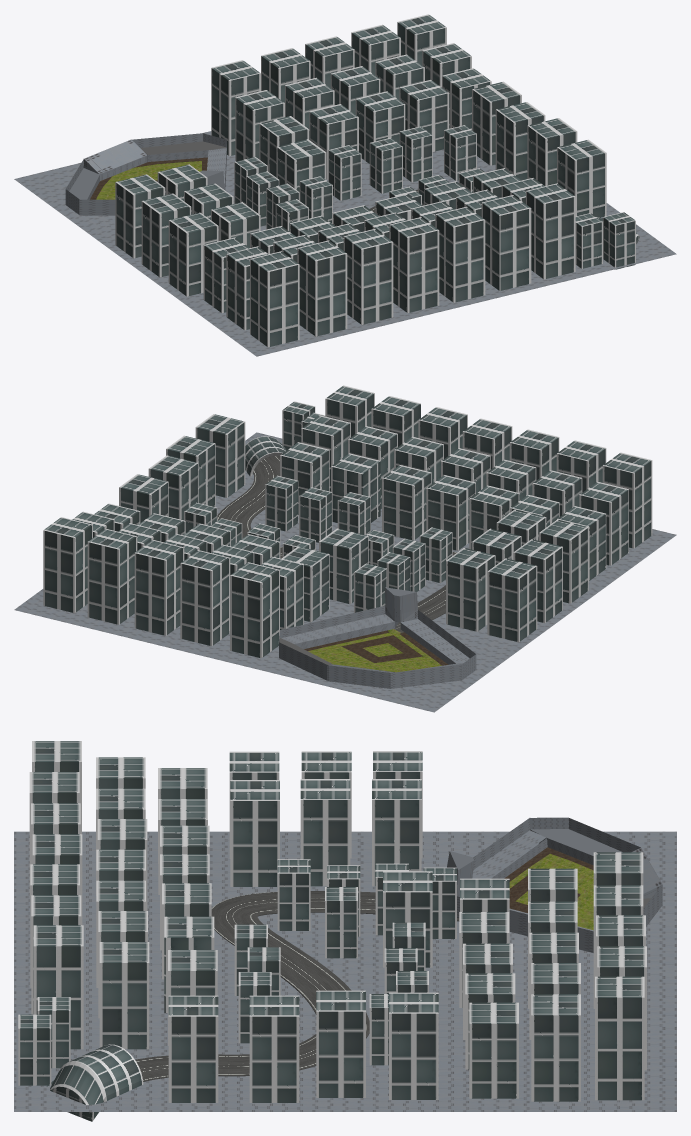
Rendered from city2.gltf.
3 views of the same model, one above another, from view 1: azimuth 30°, elevation 25°; view 2: azimuth 150°, elevation 25°; view 3: azimuth 270°, elevation 25° (orthographic). The views are drawn at different scales.
Parts seen in each view (by area): view 1: 平面, 立方体.039, 立方体.043, 立方体.013, 立方体, 立方体.045, 立方体.002, 立方体.010, 立方体.029, 立方体.044, 立方体.061, 立方体.046 (+52 smaller); view 2: 平面, stand1, 立方体.024, 立方体.061, 立方体.031, 立方体.033, 立方体.021, 立方体.049, ground, 立方体.047, 立方体.003, 立方体.039 (+53 smaller); view 3: 平面, NURBSパス.002, 立方体.021, 立方体.034, 立方体.029, 立方体.006, 立方体.025, 立方体.035, 立方体.023, 立方体.050, 立方体.020, 立方体.048 (+56 smaller).
Part boxes in pixels (x1,y1,x2,y2): 平面: (14,131,676,356); 立方体.039: (250,251,299,347); 立方体.043: (297,240,347,336); 立方体.013: (389,217,439,312); 立方体: (481,195,531,290); 立方体.045: (343,229,393,324); 立方体.002: (435,206,485,302); 立方体.010: (526,183,575,279); 立方体.029: (557,139,606,217); 立方体.044: (168,212,218,296); 立方体.061: (211,60,260,156); 立方体.046: (141,193,191,277); 平面: (14,432,676,712); stand1: (279,587,476,669); 立方体.024: (180,550,230,646); 立方体.061: (230,562,279,658); 立方体.031: (87,529,137,624); 立方体.033: (134,540,184,635); 立方体.021: (43,517,92,613); 立方体.049: (487,558,537,642); ground: (304,629,448,672); 立方体.047: (446,548,495,631); 立方体.003: (382,465,431,540); 立方体.039: (602,452,652,548); 平面: (14,831,676,1111); NURBSパス.002: (135,891,459,1081); 立方体.021: (595,976,644,1100); 立方体.034: (249,995,299,1102); 立方体.029: (168,995,218,1102); 立方体.006: (99,942,149,1049); 立方体.025: (531,994,580,1101); 立方体.035: (316,990,365,1097); 立方体.023: (389,992,438,1099); 立方体.050: (230,780,279,886); 立方体.020: (469,1002,518,1098); 立方体.048: (300,779,350,886).
Bounding box in the file's own units: 2000 × 394 × 2000.
7 materials, 7 textured.
